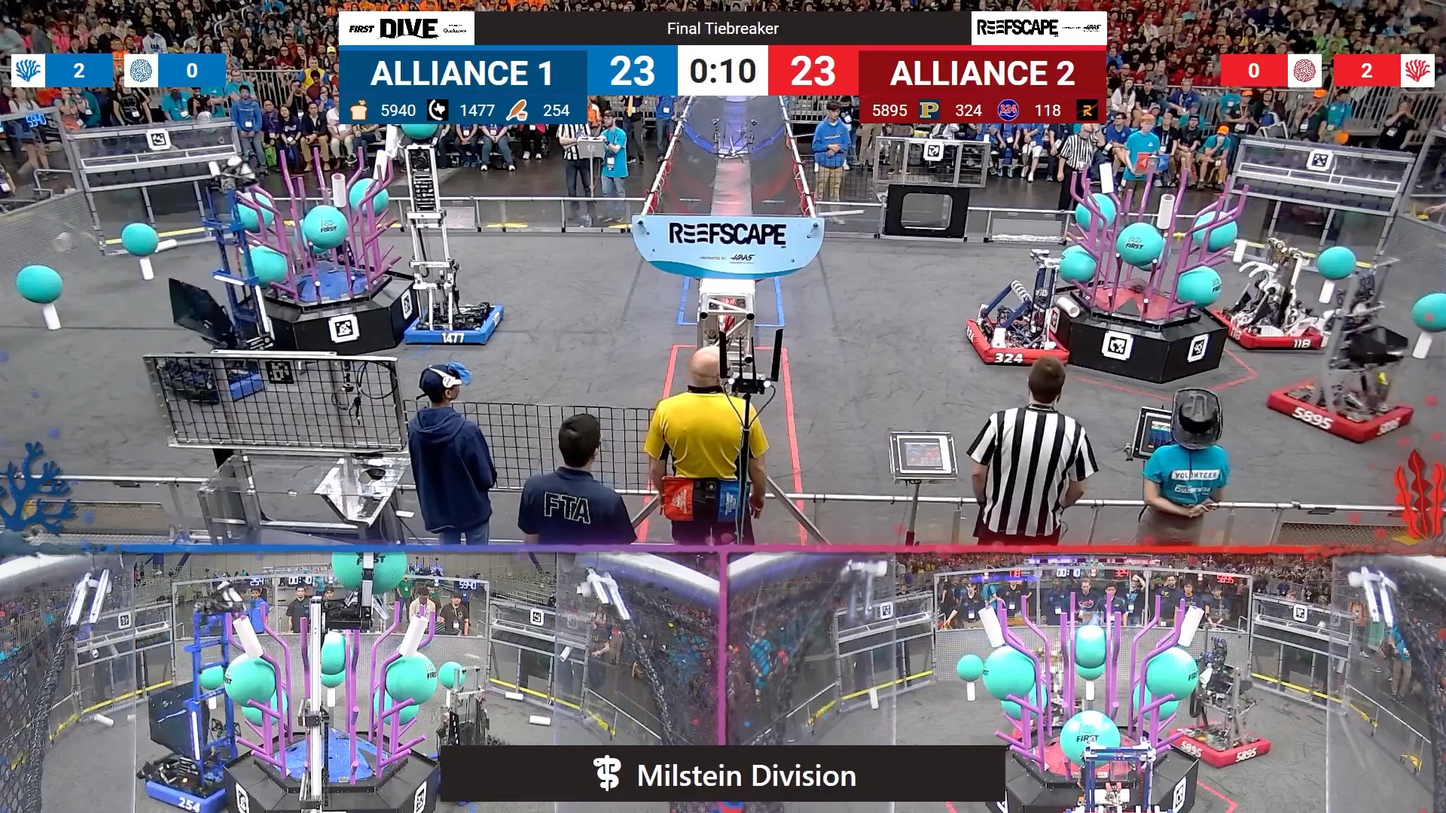bumpers: (1257, 377, 1409, 447), (162, 346, 286, 402), (963, 314, 1076, 372), (1210, 313, 1336, 360), (395, 300, 505, 350), (139, 765, 250, 813), (1162, 724, 1274, 769)
